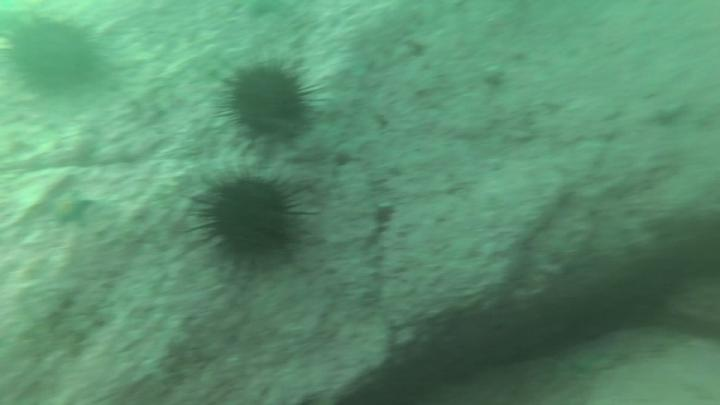echinus: (195, 169, 307, 269), (6, 10, 112, 104), (221, 60, 315, 143)
starfish: (47, 188, 98, 234)
